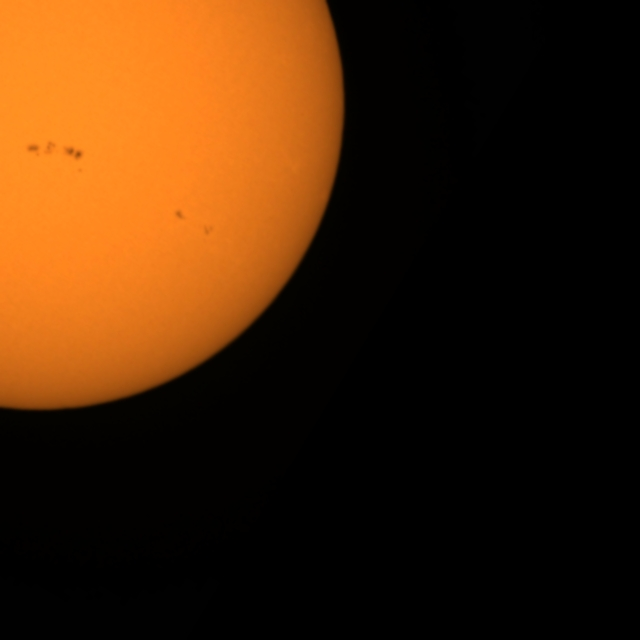sunspot: (23, 137, 85, 165), (172, 206, 217, 238), (200, 221, 217, 240), (171, 207, 188, 224)
